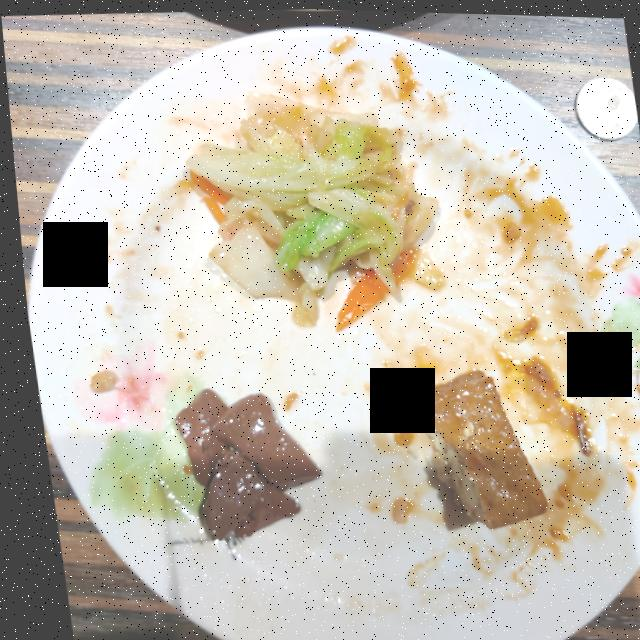cabbage: (183, 93, 439, 329)
coin: (574, 73, 636, 136)
egg tofu: (402, 367, 538, 526)
pig blood curd: (166, 388, 312, 539)
